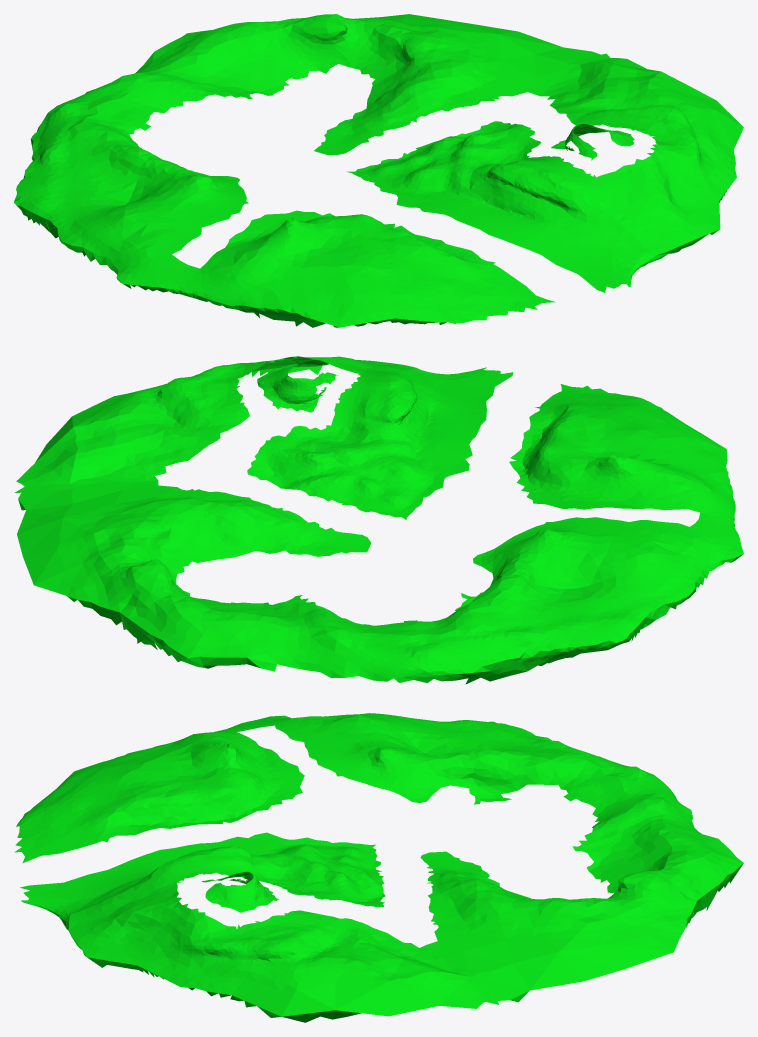
Rendered from home_island_grassland.glb.
3 views of the same model, one above another, from view 1: azimuth 30°, elevation 25°; view 2: azimuth 150°, elevation 25°; view 3: azimuth 270°, elevation 25° (orthographic). The views are drawn at different scales.
Visible parts, largest first — view 1: grassland; view 2: grassland; view 3: grassland.
Boxes of the visible parts, <box> form: grassland: <box>14,14,743,327</box>; grassland: <box>15,356,743,684</box>; grassland: <box>14,713,743,1022</box>.
Size of the model in its own units: 346 by 42.45 by 354.
